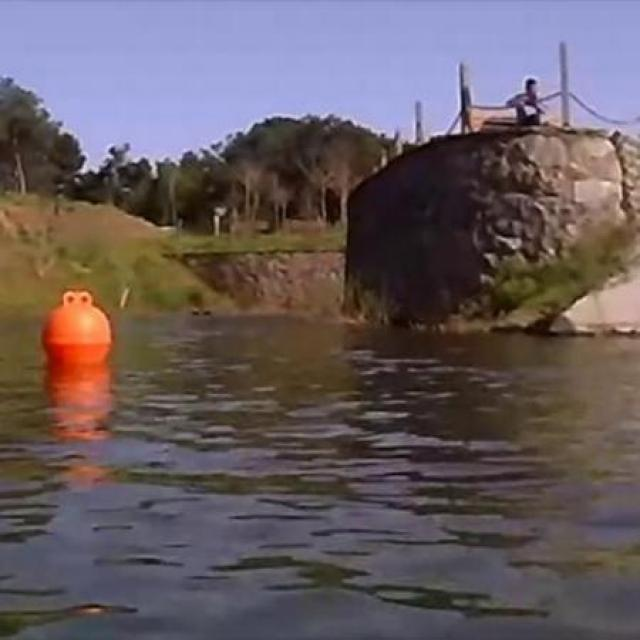buoy: (40, 289, 111, 365)
